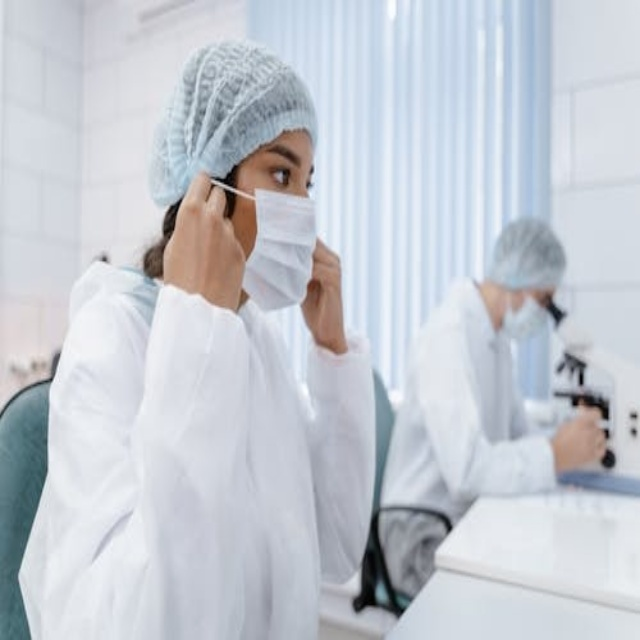Mascara: (225, 179, 316, 312), (503, 291, 552, 343)
Sin_gafas: (259, 148, 317, 196)
Sin_guantes: (161, 175, 248, 323), (552, 408, 607, 474)
